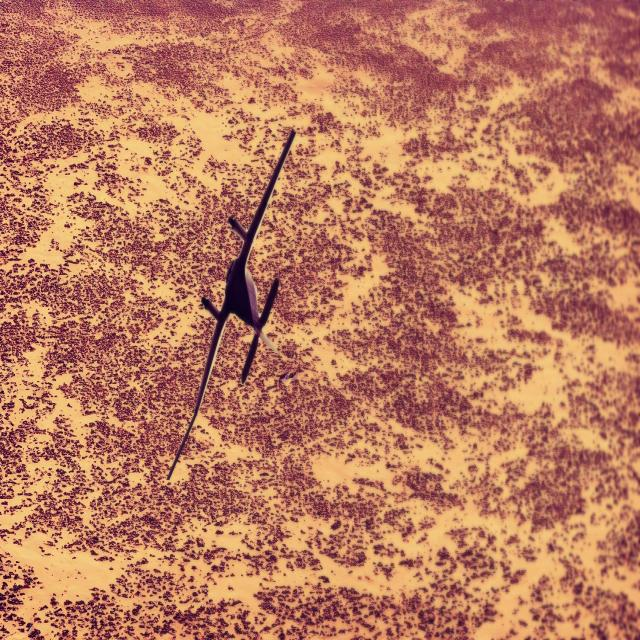airplane: (166, 128, 296, 480)
